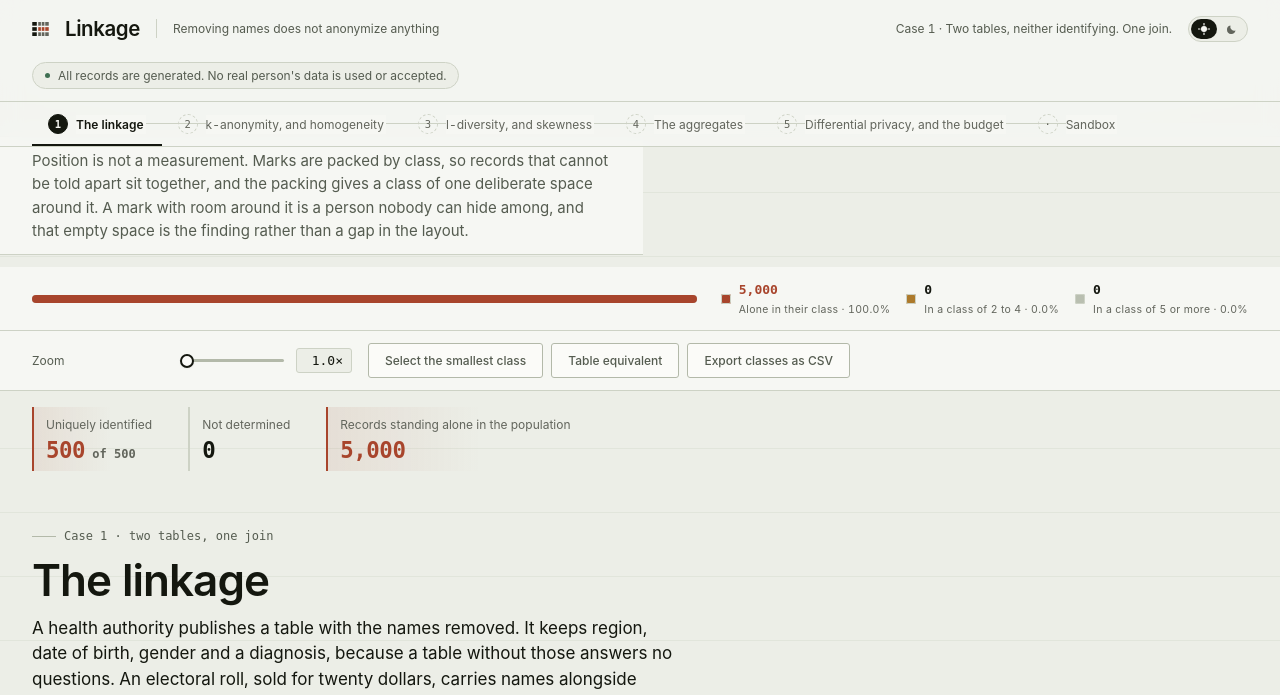
Test: the application boots › shows the field table equivalent on request
(page scrolled)
Step 1. Click the button "Table equivalent" → (615, 361), box 551,343 -> 679,378
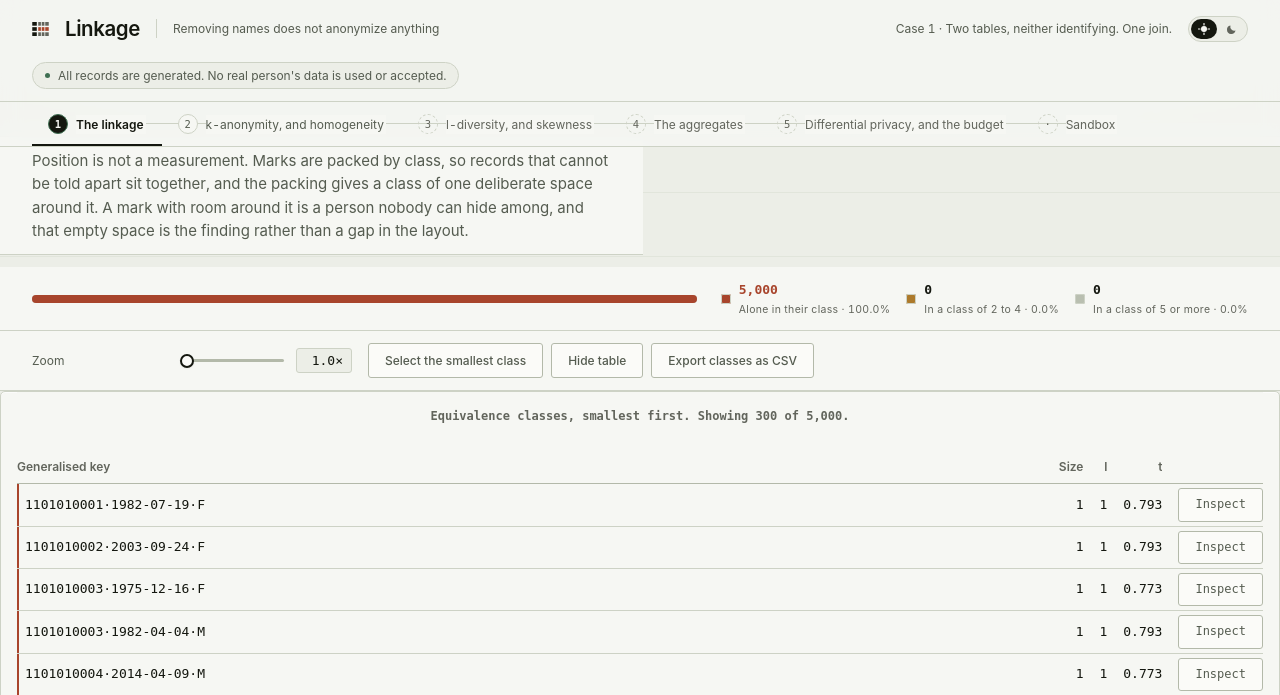
Check: the text "Equivalence classes, smallest first" is shown, box 430,410 -> 756,424
